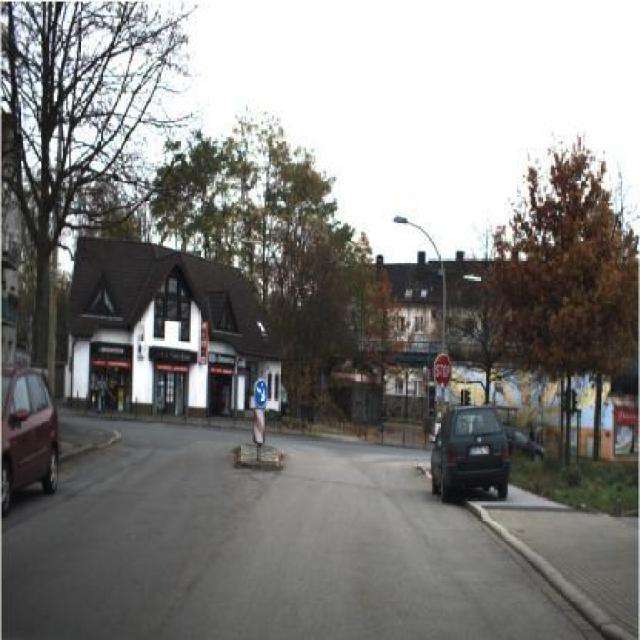Stop: (432, 350, 454, 392)
